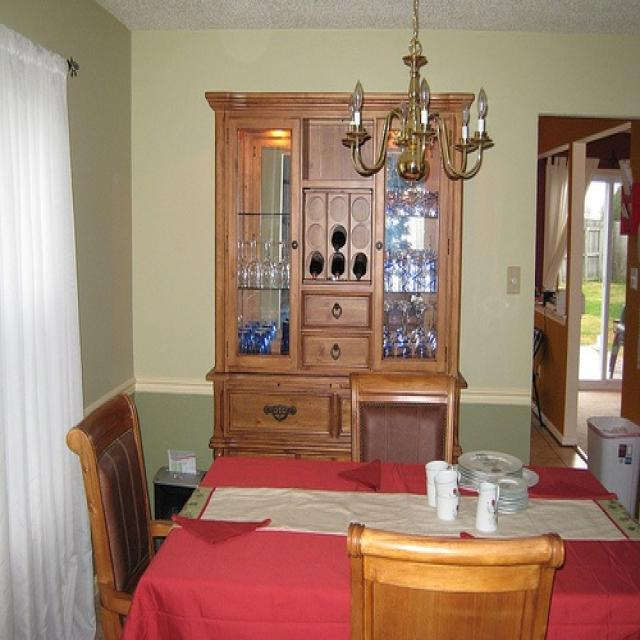chair: (66, 392, 179, 639)
diningtable: (141, 459, 640, 640)
